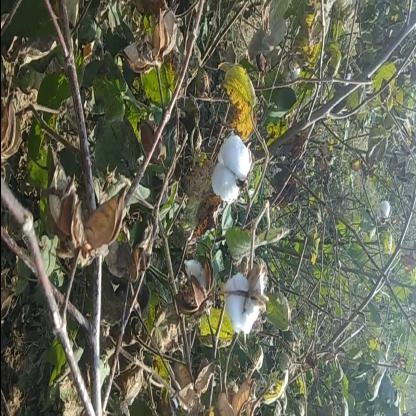cotton_ready: (208, 245, 272, 361), (192, 121, 252, 226)
